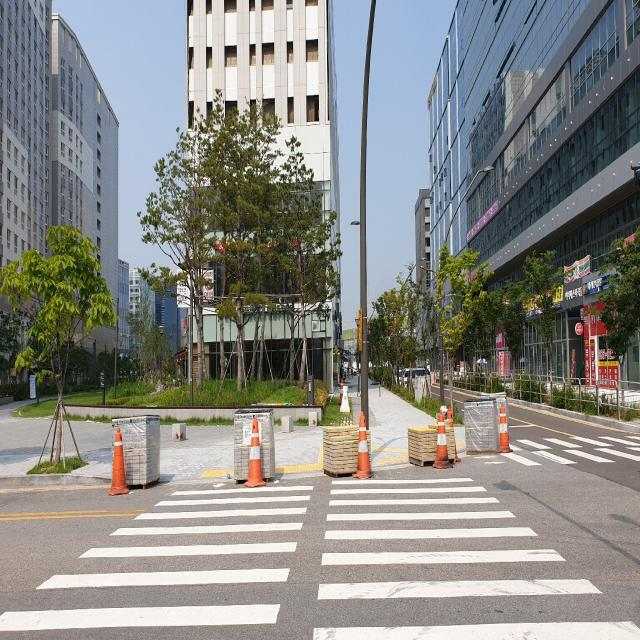횡단보도: (0, 475, 640, 639), (491, 427, 640, 465)
